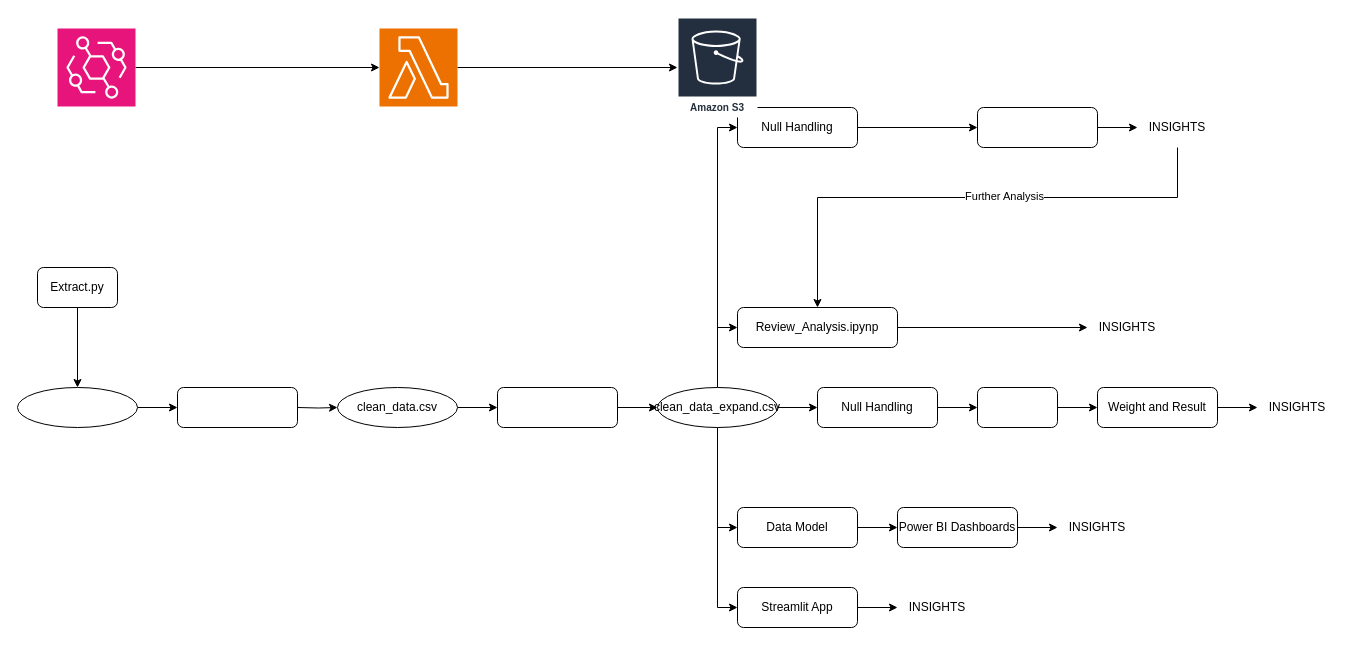
Image size: 1355x645. Some labels were removed from this diagram. Each missing label, with the centre of its shape:
Data Transformation.py: pixel 237 407
EDA (Before): pixel 1037 127
feature_engineering .py: pixel 557 407
Modelling: pixel 1017 407
raw_data.csv: pixel 77 407
